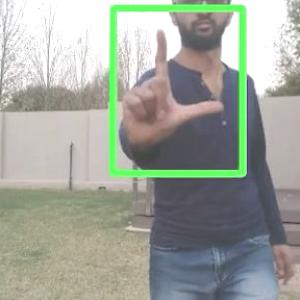land_hand: (120, 25, 224, 150)
